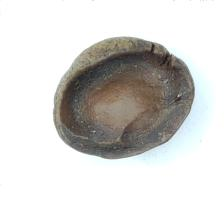NG: (57, 49, 186, 153)
